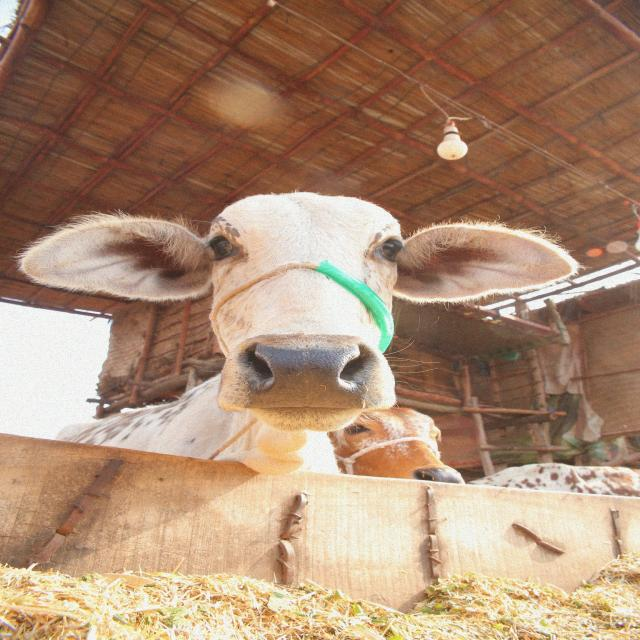muzzles: (232, 330, 390, 420)
